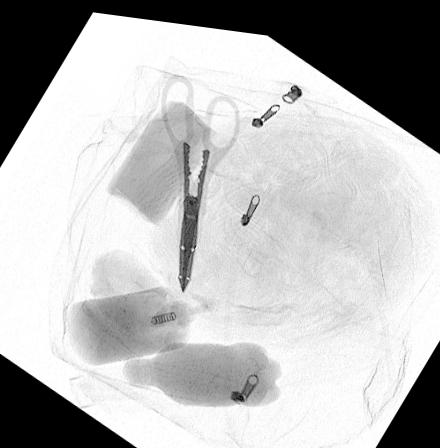Scissors: (162, 66, 243, 287)
